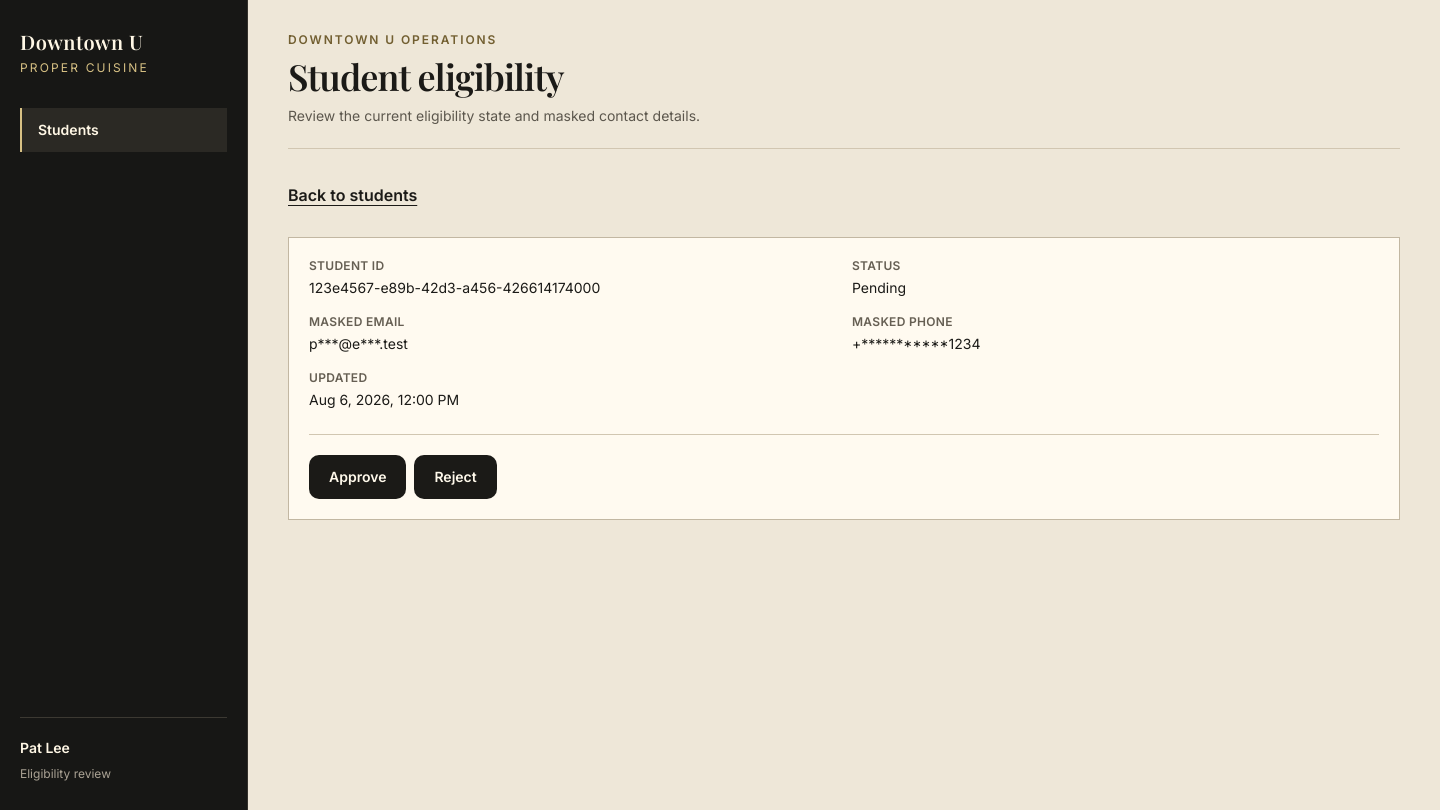
eligibility mutation wizard › canonicalizes a PostgreSQL offset/microsecond read timestamp before signing and posting
Click the button "Approve": [358, 477] box 309,455 -> 406,499
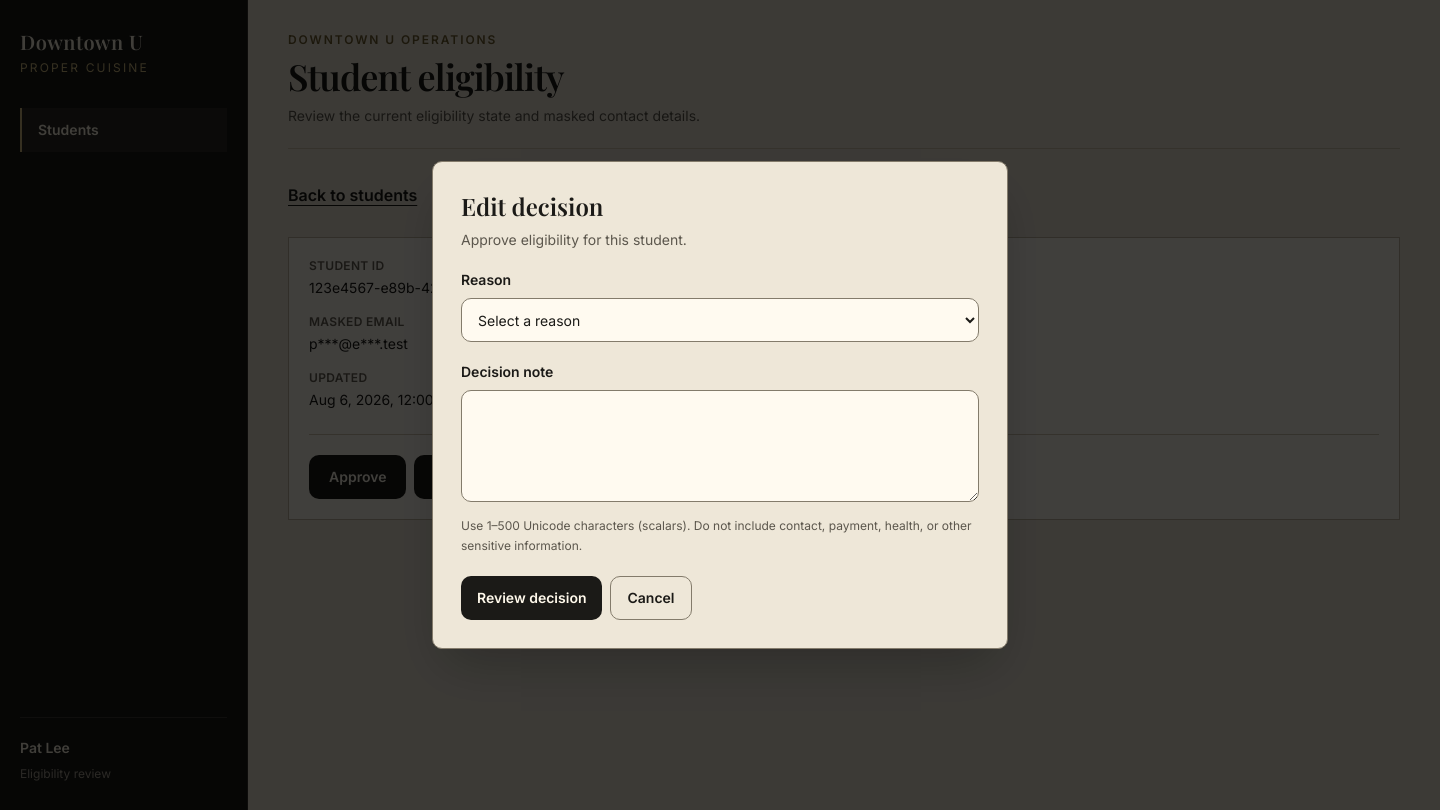
Select "Documentation verified" in the dropdown labelled "Reason": [720, 320] box 461,298 -> 979,342
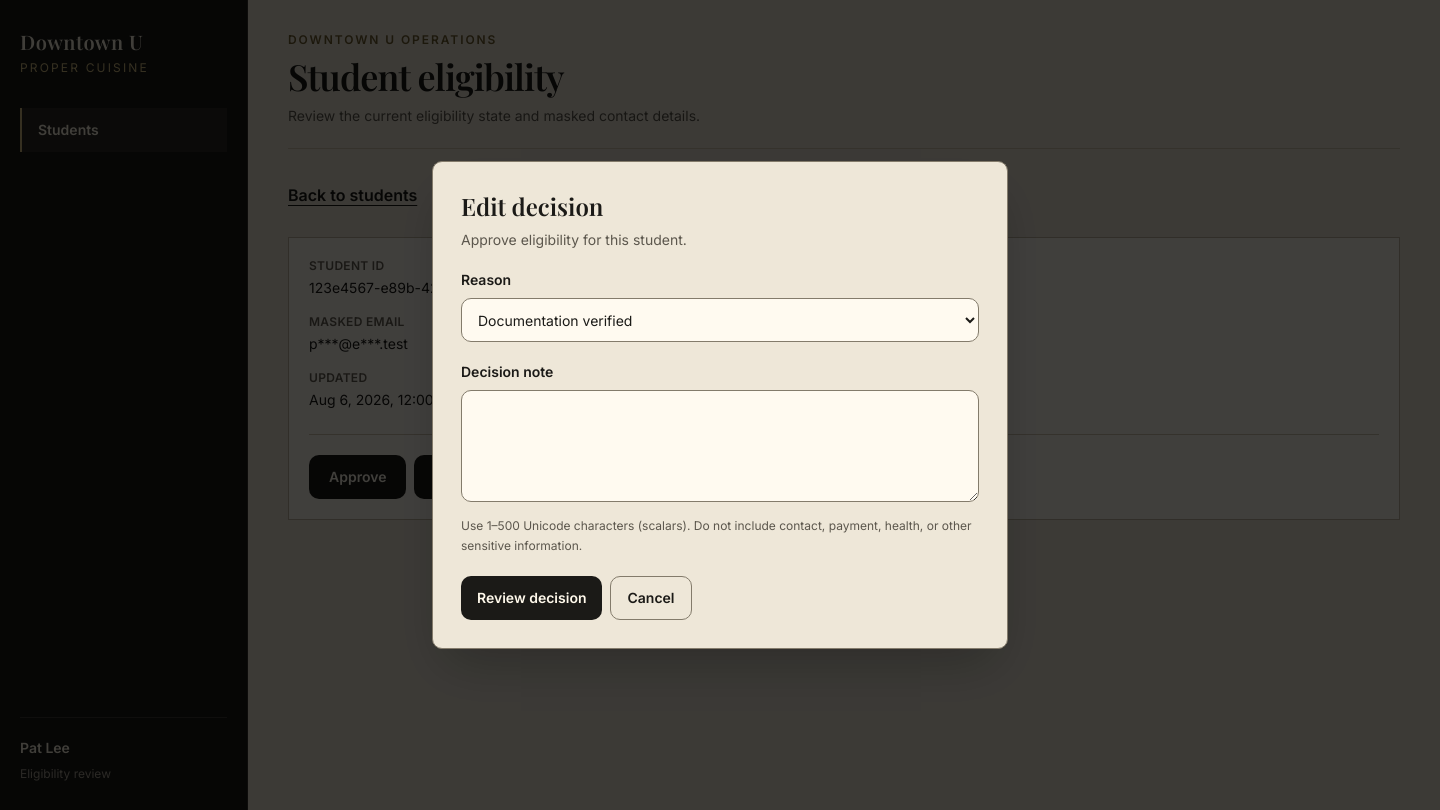
In the text box labelled "Decision note": [720, 446] box 461,390 -> 979,502, type "Documents verified"
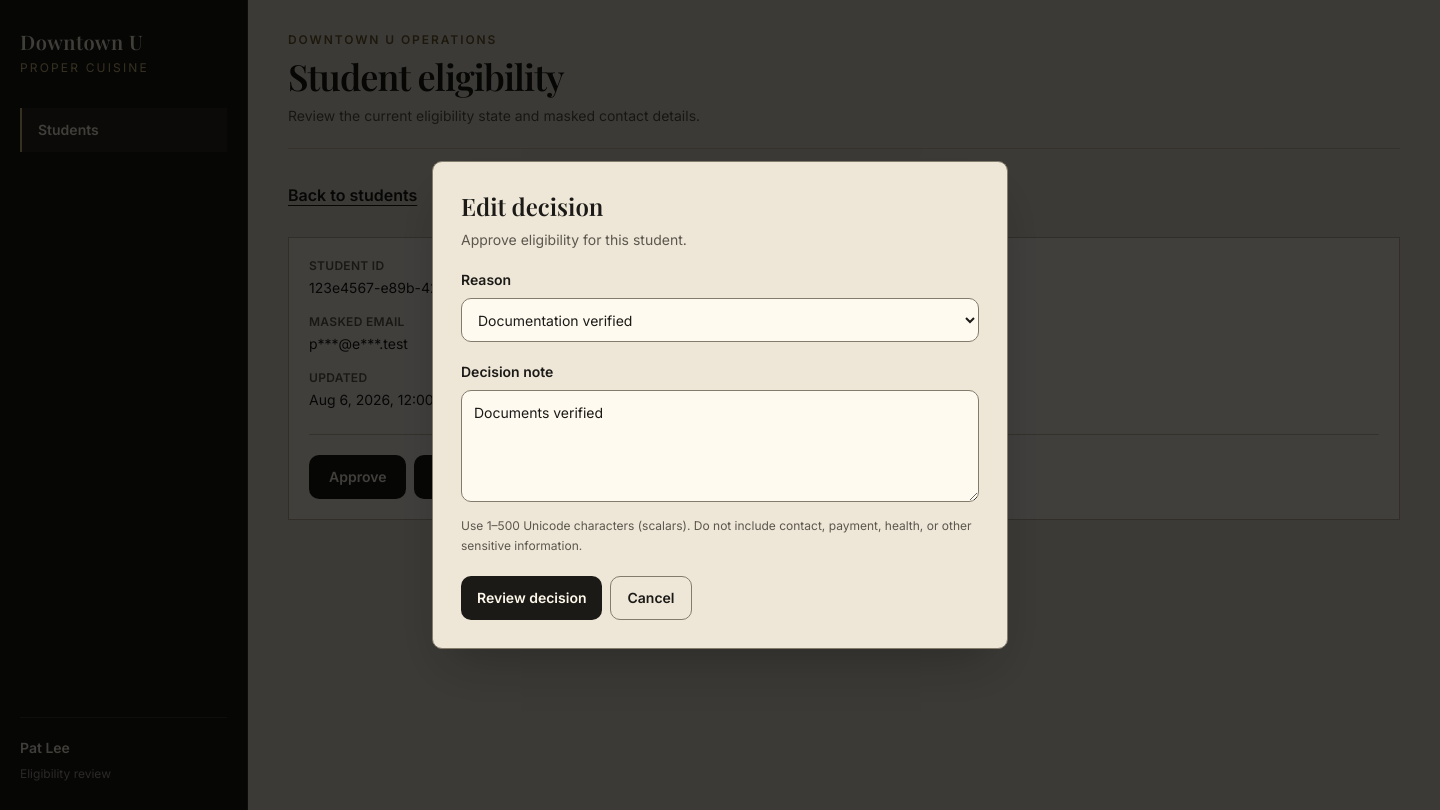
Click the button "Review decision": [532, 598] box 461,576 -> 602,620
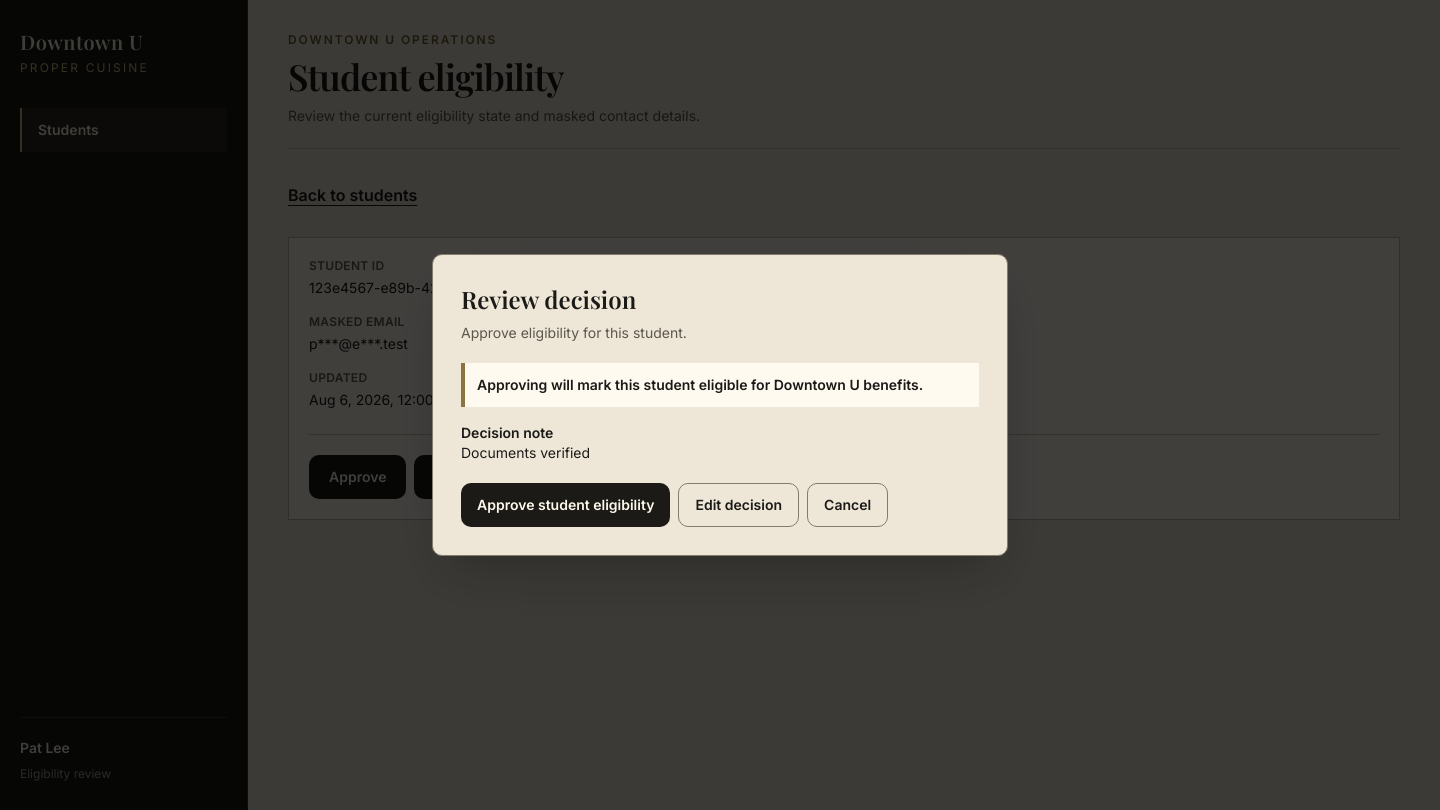
Click the button "Approve student eligibility": [566, 505] box 461,483 -> 670,527
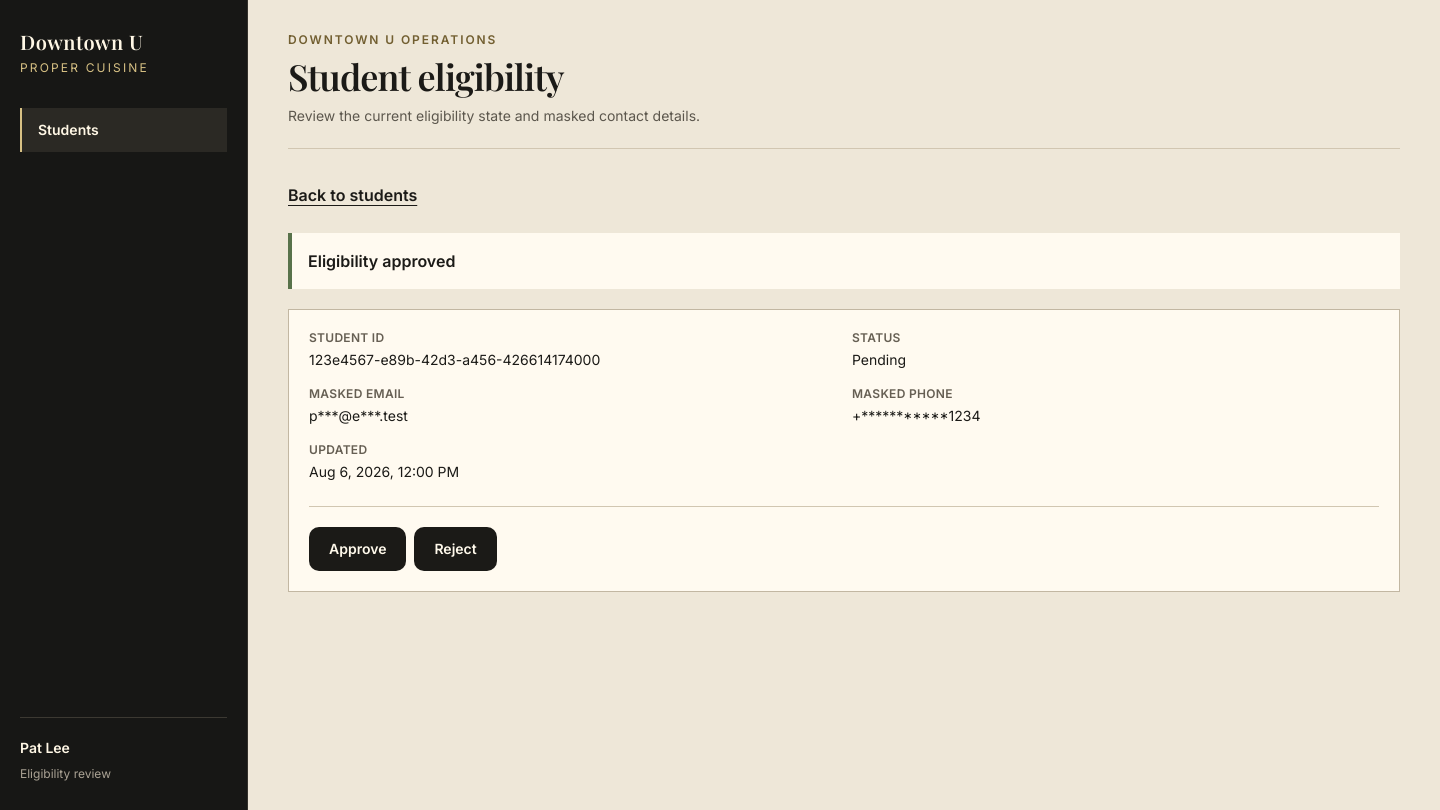
Expected: the message "Eligibility approved" is shown, 288,233 -> 1400,289
